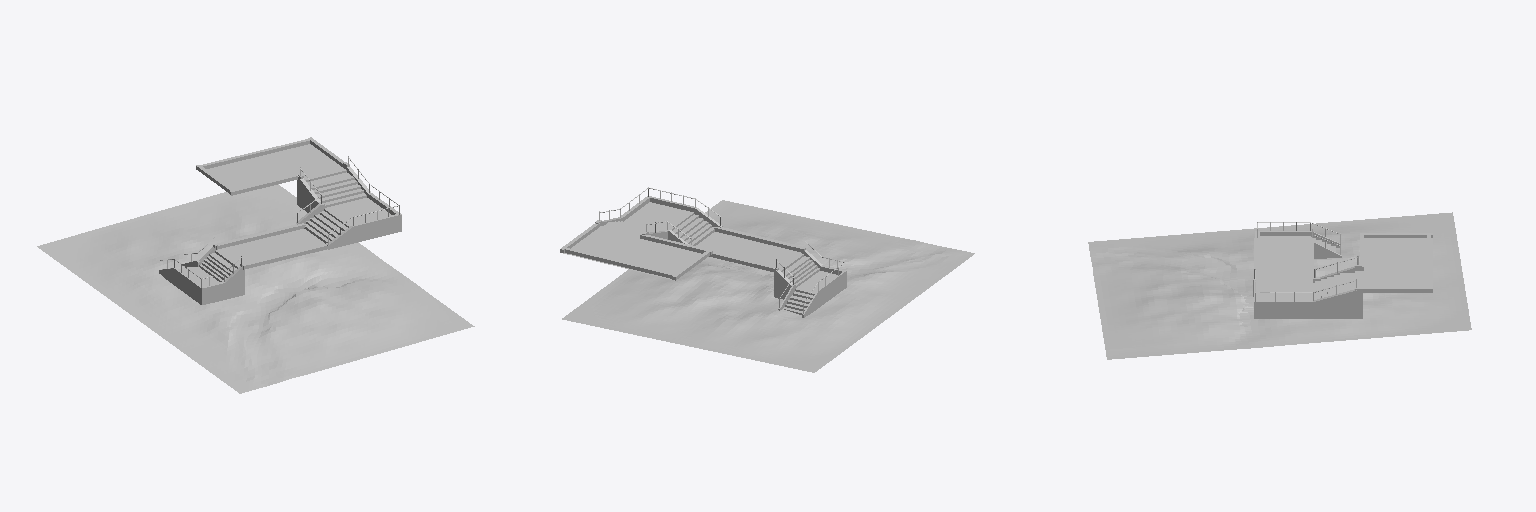
The model's file is terrain2.obj.
The picture shows the model from 3 angles: view 1: azimuth 30°, elevation 25°; view 2: azimuth 150°, elevation 25°; view 3: azimuth 270°, elevation 25°; orthographic projection.
Visible parts, largest first — view 1: Landscape, Landscape.002, Plane.001, Landscape.001, Plane, Cube.003, Cube.005, Cube; view 2: Landscape, Landscape.002, Landscape.001, Plane.001, Plane, Cube.003, Cube; view 3: Landscape, Landscape.002, Plane.001, Plane, Landscape.001.
Part boxes in pixels (bbox=[...]): Landscape: bbox=[37, 184, 474, 393]; Landscape.002: bbox=[296, 156, 401, 249]; Plane.001: bbox=[206, 144, 343, 188]; Landscape.001: bbox=[159, 237, 244, 304]; Plane: bbox=[217, 229, 327, 269]; Cube.003: bbox=[200, 138, 313, 168]; Cube.005: bbox=[216, 223, 305, 249]; Cube: bbox=[243, 243, 327, 269]; Landscape: bbox=[562, 200, 974, 372]; Landscape.002: bbox=[595, 187, 722, 245]; Landscape.001: bbox=[774, 241, 846, 317]; Plane.001: bbox=[563, 227, 701, 280]; Plane: bbox=[696, 232, 801, 272]; Cube.003: bbox=[562, 248, 676, 278]; Cube: bbox=[714, 227, 805, 251]; Landscape: bbox=[1088, 212, 1471, 359]; Landscape.002: bbox=[1253, 256, 1362, 318]; Plane.001: bbox=[1360, 238, 1432, 287]; Plane: bbox=[1260, 243, 1308, 281]; Landscape.001: bbox=[1255, 222, 1341, 258].
Size of the model in its own units: 35.16 by 10.24 by 43.91.